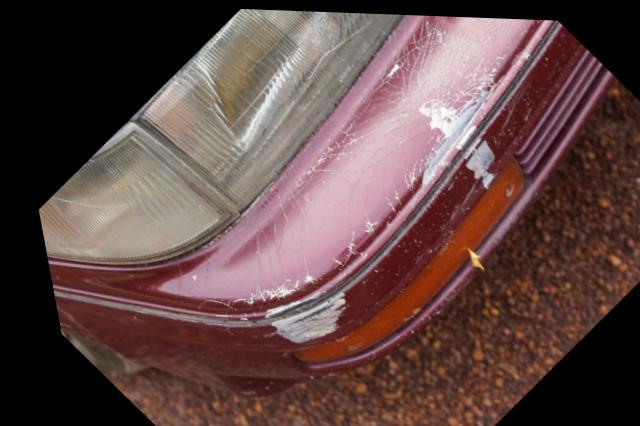scratch: (414, 82, 501, 198), (247, 277, 344, 341)
